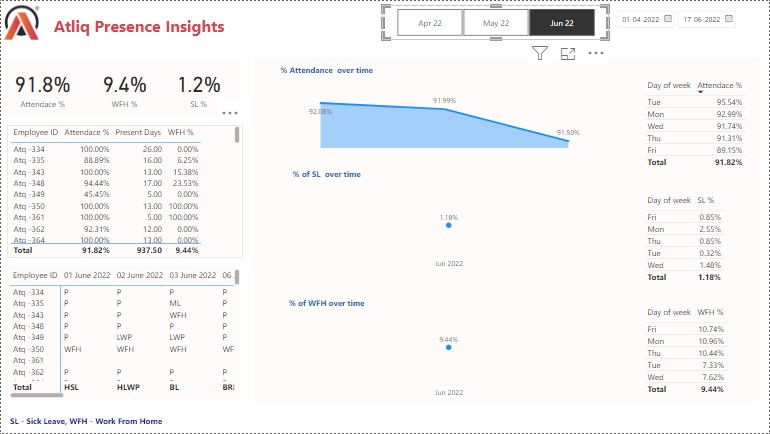

What the dashboard file says about the page in this screenshot:
{"tool":"powerbi","page":{"name":"Presence Insights","canvas":[1280,720],"ordinal":0},"visuals":[{"type":"card","fields":{"Values":["Measure Table.Attendace %"]},"box":[8.3,95,121.7,96.7],"z":0},{"type":"image","box":[0,0,70,71],"z":1000},{"type":"textbox","box":[70.3,0,320.1,71.1],"z":2000},{"type":"card","fields":{"Values":["Measure Table.WFH %"]},"box":[145,95,121.7,96.7],"z":3000},{"type":"card","fields":{"Values":["Measure Table.SL %"]},"box":[268.3,95,121.7,96.7],"z":4000},{"type":"tableEx","fields":{"Values":["Final Data.Employee ID","Measure Table.Attendace %","Measure Table.Present Days","Measure Table.WFH %"]},"box":[10,203.3,393.3,225],"z":5000},{"type":"pivotTable","fields":{"Rows":["Final Data.Employee ID"],"Columns":["Final Data.Date"],"Values":["Min(Final Data.Value)"]},"box":[10,441.7,393.3,225],"z":7000},{"type":"textbox","box":[10,686.7,288.3,28.3],"z":8000},{"type":"areaChart","fields":{"Category":["Final Data.WeekNo","Final Data.Date"],"Y":["Measure Table.Attendace %"]},"box":[445,143.3,588.3,106.7],"z":9000},{"type":"areaChart","fields":{"Category":["Final Data.MMM YY","Final Data.Date"],"Y":["Measure Table.SL %"]},"box":[445,301.7,588.3,153.3],"z":10000},{"type":"areaChart","fields":{"Category":["Final Data.MMM YY","Final Data.Date"],"Y":["Measure Table.WFH %"]},"box":[445,516.7,588.3,153.3],"z":11000},{"type":"textbox","box":[445,101.7,191.7,26.7],"z":12000},{"type":"textbox","box":[445,275,191.7,26.7],"z":13000},{"type":"textbox","box":[445,490,191.7,26.7],"z":14000},{"type":"tableEx","fields":{"Values":["Final Data.Day","Measure Table.Attendace %"]},"box":[1066.7,125,198.3,163.3],"z":15000},{"type":"tableEx","fields":{"Values":["Final Data.Day","Measure Table.SL %"]},"box":[1066.7,316.7,198.3,163.3],"z":16000},{"type":"tableEx","fields":{"Values":["Final Data.Day","Measure Table.WFH %"]},"box":[1066.7,503.3,198.3,163.3],"z":17000},{"type":"slicer","fields":{"Values":["Final Data.Date"]},"box":[1013.3,6.7,251.7,46.7],"z":18000},{"type":"slicer","fields":{"Values":["Final Data.MMM YY"]},"box":[635,6.7,378.3,58.3],"z":19000},{"type":"textbox","box":[10,100,390,91.7],"z":20000},{"type":"textbox","box":[10,206.7,393.3,221.7],"z":21000},{"type":"textbox","box":[421.7,95,843.3,575],"z":21500},{"type":"textbox","box":[10,441.7,390,225],"z":22000}]}

Visuals, with their boxes in screenshot pixels (x1, y1, x2, y2), scaled from the page's 1280x720 canvas onto the 770x434 screenshot:
card - Measure Table.Attendace %: [5, 57, 78, 116]
image: [0, 0, 42, 43]
textbox: [42, 0, 235, 43]
card - Measure Table.WFH %: [87, 57, 160, 116]
card - Measure Table.SL %: [161, 57, 235, 116]
tableEx - Final Data.Employee ID x Measure Table.Attendace %: [6, 123, 243, 258]
pivotTable - Final Data.Employee ID x Final Data.Date: [6, 266, 243, 402]
textbox: [6, 414, 179, 431]
areaChart - Final Data.WeekNo x Final Data.Date: [268, 86, 622, 151]
areaChart - Final Data.MMM YY x Final Data.Date: [268, 182, 622, 274]
areaChart - Final Data.MMM YY x Final Data.Date: [268, 311, 622, 404]
textbox: [268, 61, 383, 77]
textbox: [268, 166, 383, 182]
textbox: [268, 295, 383, 311]
tableEx - Final Data.Day x Measure Table.Attendace %: [642, 75, 761, 174]
tableEx - Final Data.Day x Measure Table.SL %: [642, 191, 761, 289]
tableEx - Final Data.Day x Measure Table.WFH %: [642, 303, 761, 402]
slicer - Final Data.Date: [610, 4, 761, 32]
slicer - Final Data.MMM YY: [382, 4, 610, 39]
textbox: [6, 60, 241, 116]
textbox: [6, 125, 243, 258]
textbox: [254, 57, 761, 404]
textbox: [6, 266, 241, 402]
